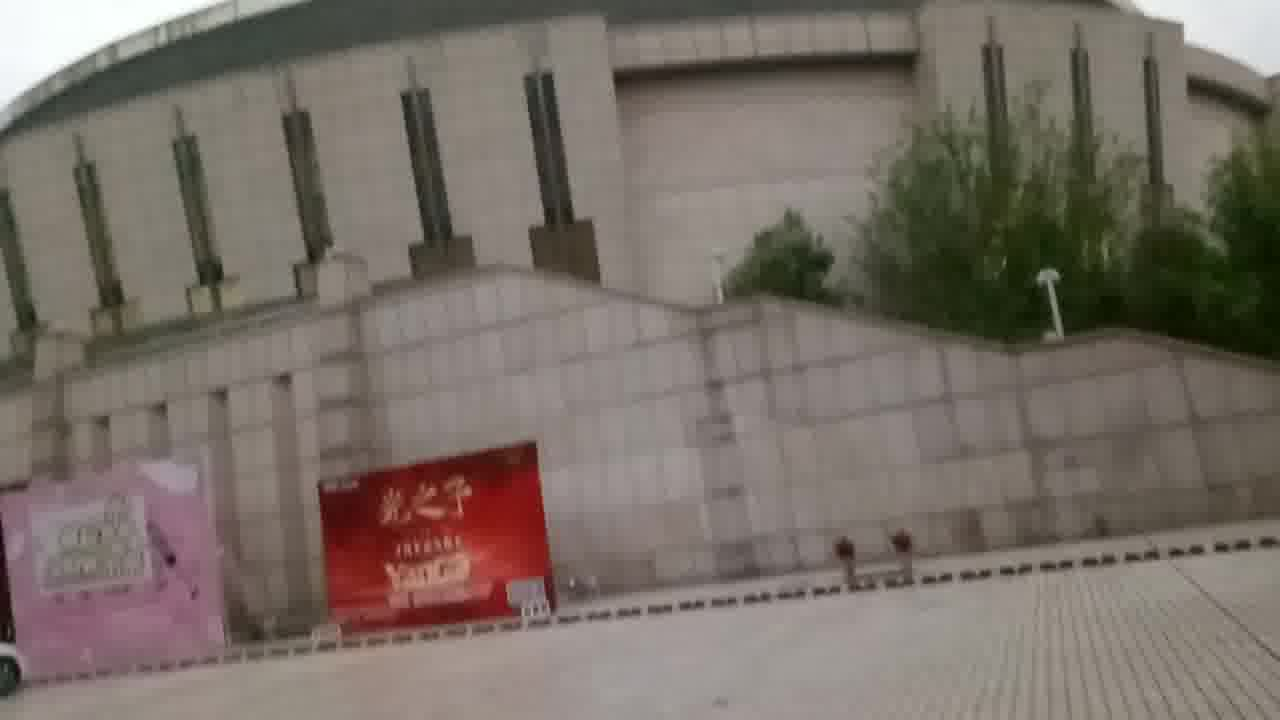zhongtiww: (12, 1, 1280, 592)
